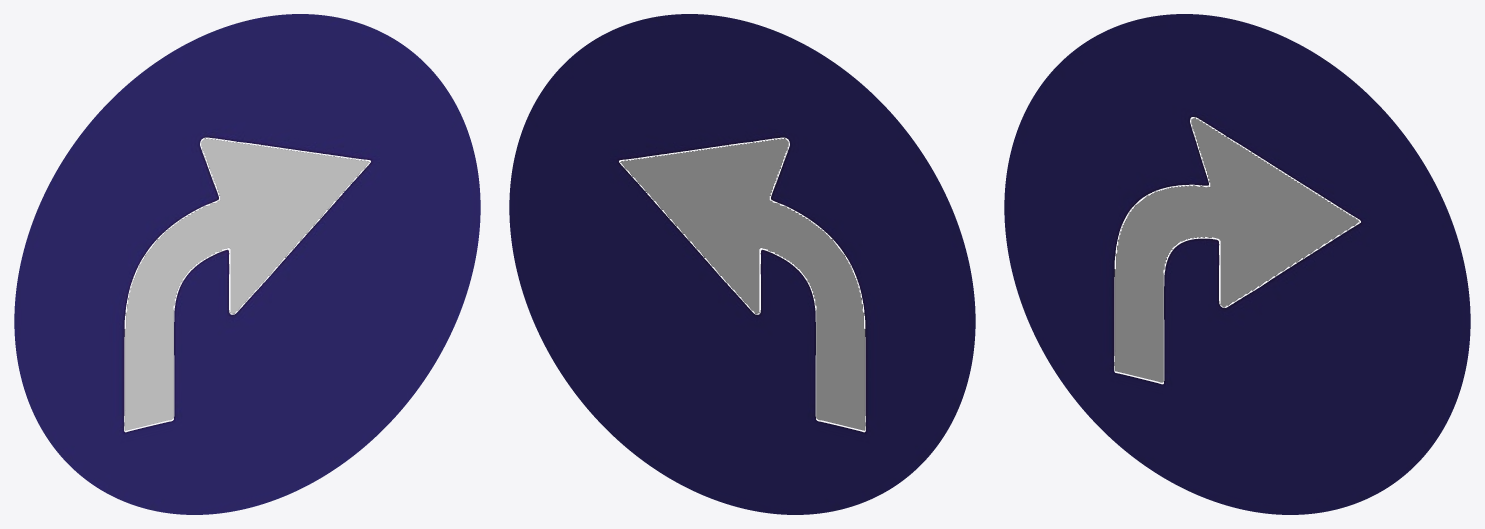
File: ileriden-saga-mecburi-yon.dae
3 views of the same model, side by side, from view 1: azimuth 30°, elevation 25°; view 2: azimuth 150°, elevation 25°; view 3: azimuth 330°, elevation 25° (orthographic).
Parts seen in each view (by area): view 1: Circle; view 2: Circle; view 3: Circle.
Boxes of the visible parts, x1,y1,x2,y2 form: Circle: (14, 14, 480, 514); Circle: (509, 14, 975, 514); Circle: (1004, 14, 1470, 514).
Size of the model in its own units: 0.24 by 1.05e-08 by 0.24.
Materials: 1 (1 with a texture image).
